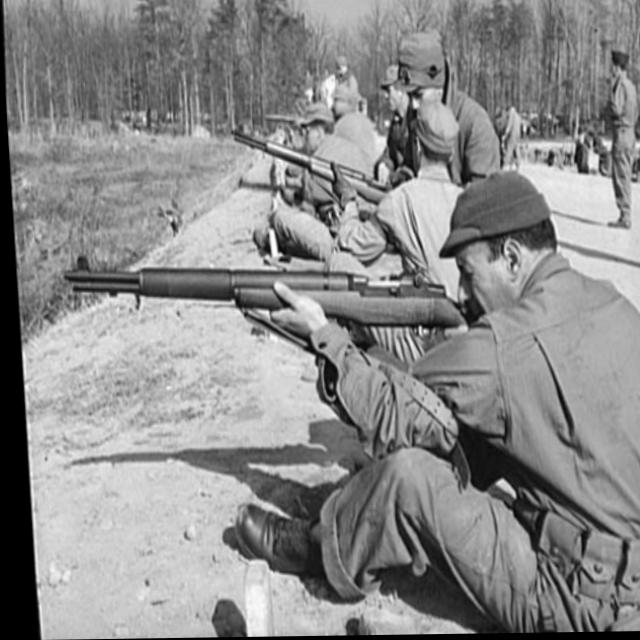other: (413, 183, 640, 607), (378, 108, 463, 283), (597, 50, 640, 222), (374, 73, 409, 166), (297, 105, 336, 160), (320, 55, 361, 99), (499, 102, 524, 170)
